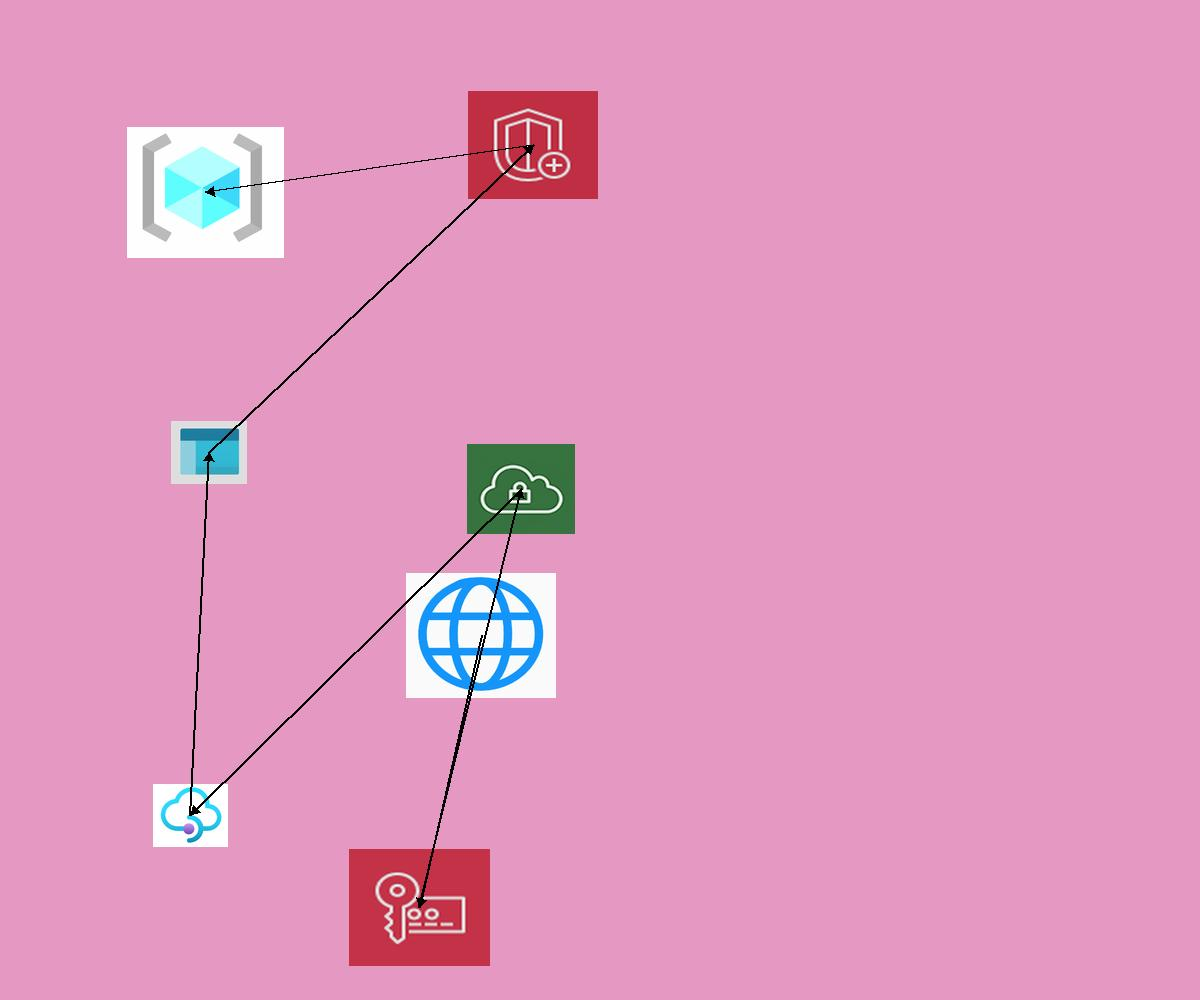AWS-Key-Management-Service: (349, 849, 490, 966)
AWS-Private_vpc: (467, 444, 575, 534)
AWS-Shield: (468, 91, 598, 199)
Azure_api_gateway: (153, 784, 228, 847)
Azure_http: (406, 573, 556, 698)
Azure_management-portal: (171, 421, 247, 484)
Azure_resource_group: (127, 127, 284, 258)
